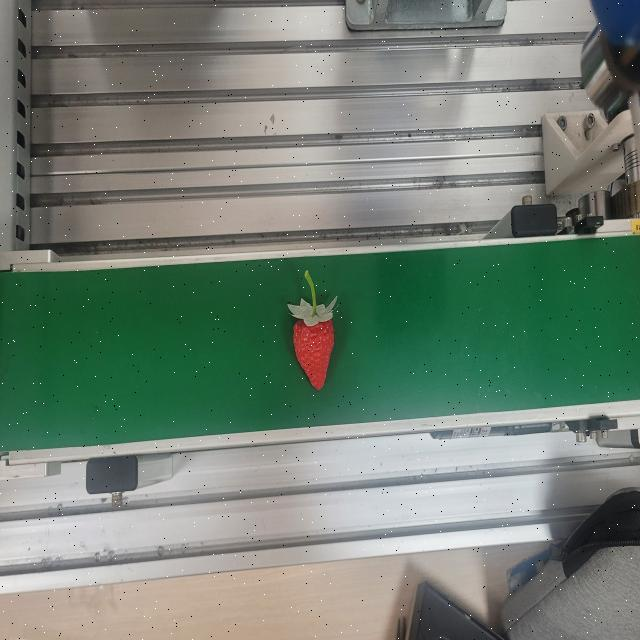Small Ripe Strawberry: (287, 266, 339, 392)
conveyor: (0, 233, 640, 443)
